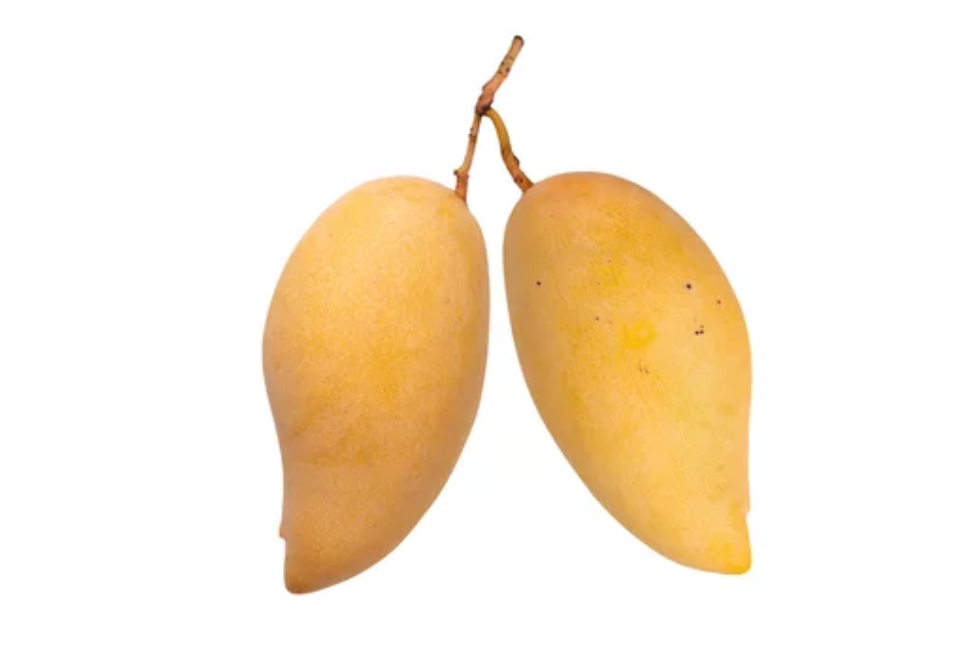mango: (502, 166, 756, 580), (260, 172, 490, 592)
